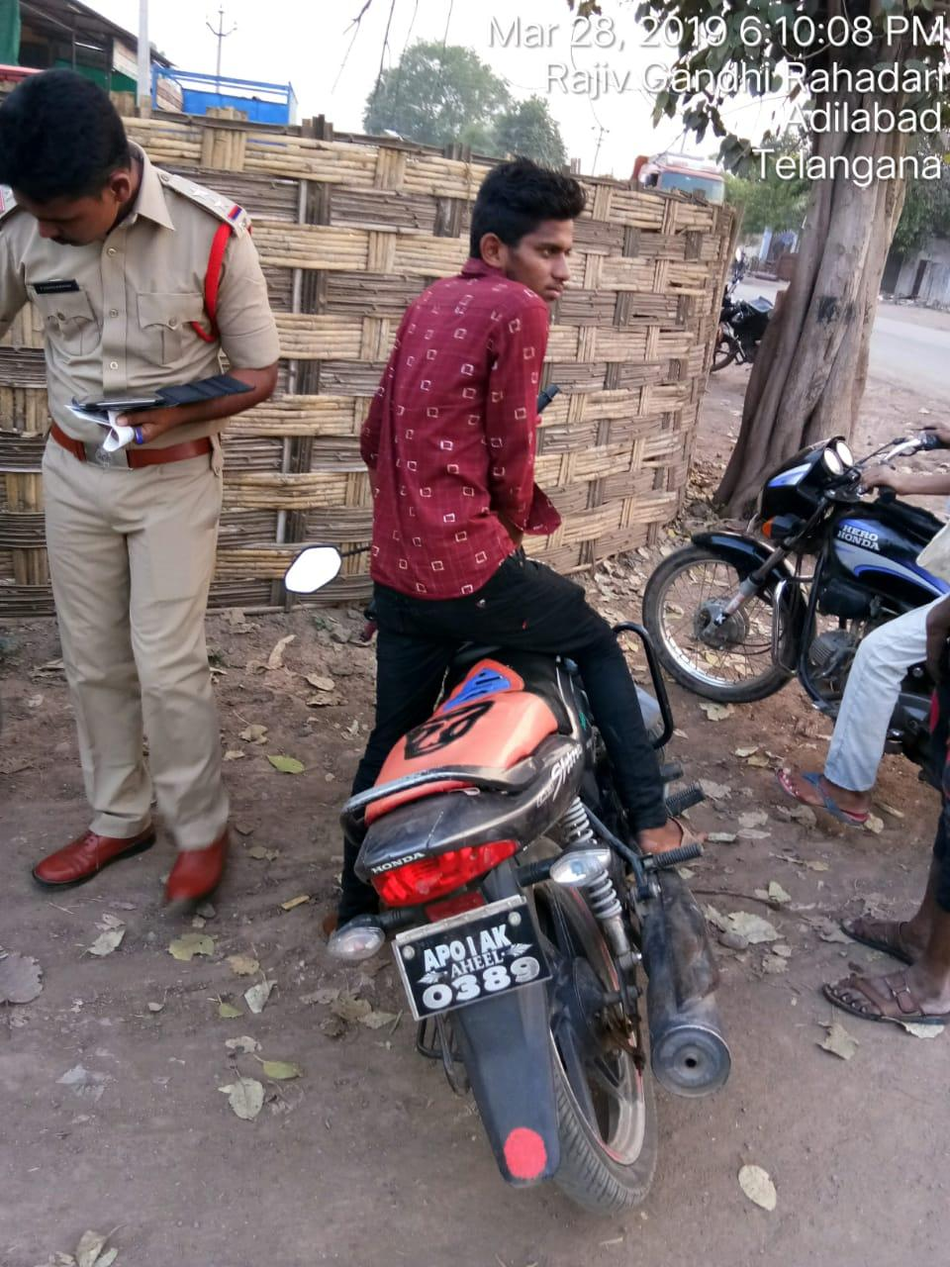plate: (376, 898, 561, 1023)
